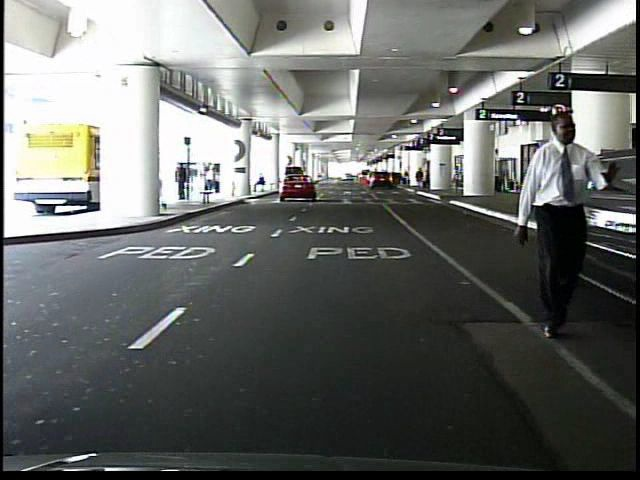person: (516, 102, 604, 343), (175, 161, 190, 202), (449, 167, 462, 194), (256, 172, 270, 195), (414, 167, 424, 191)
